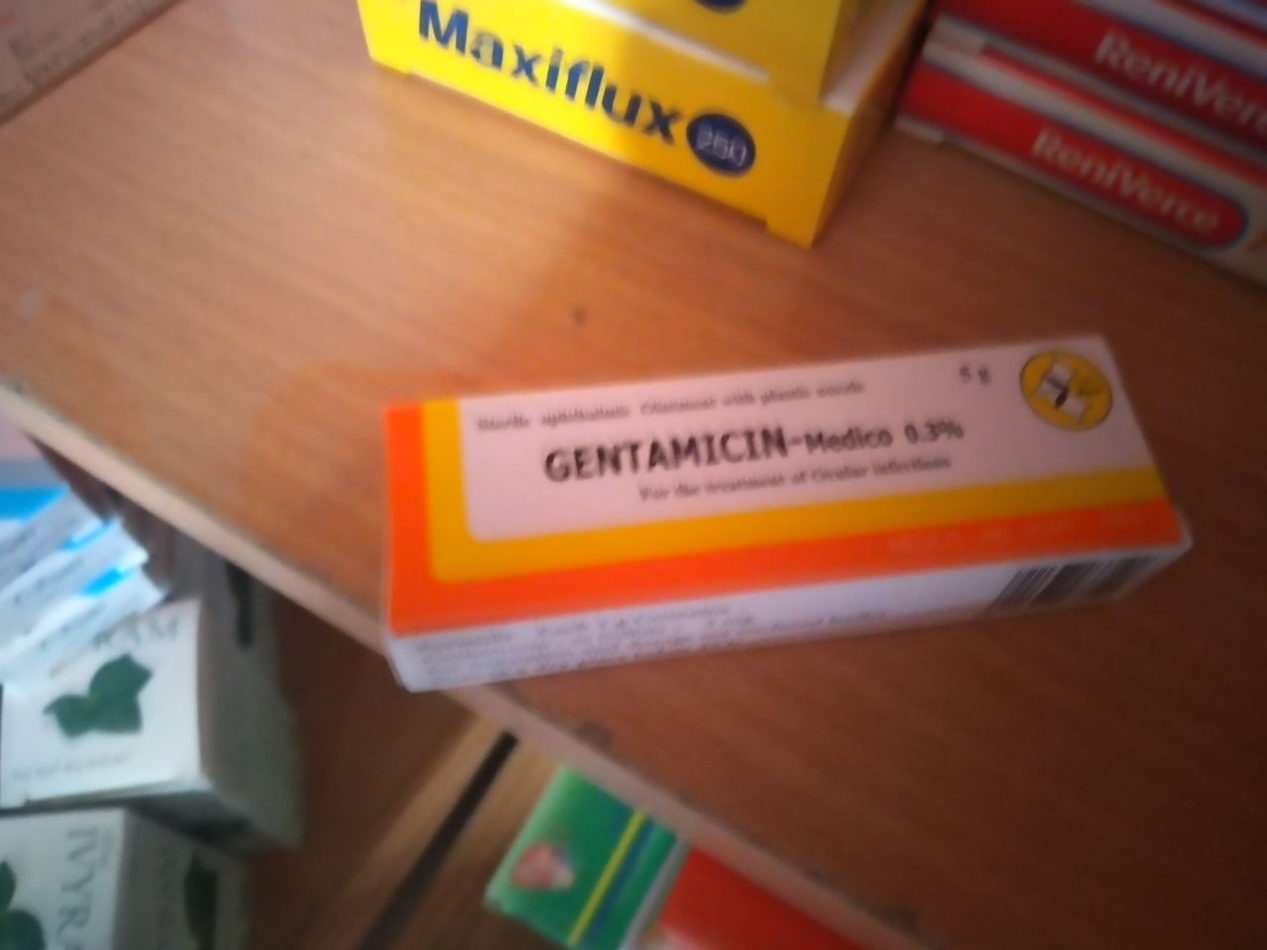Medicine: (356, 322, 1237, 675)
